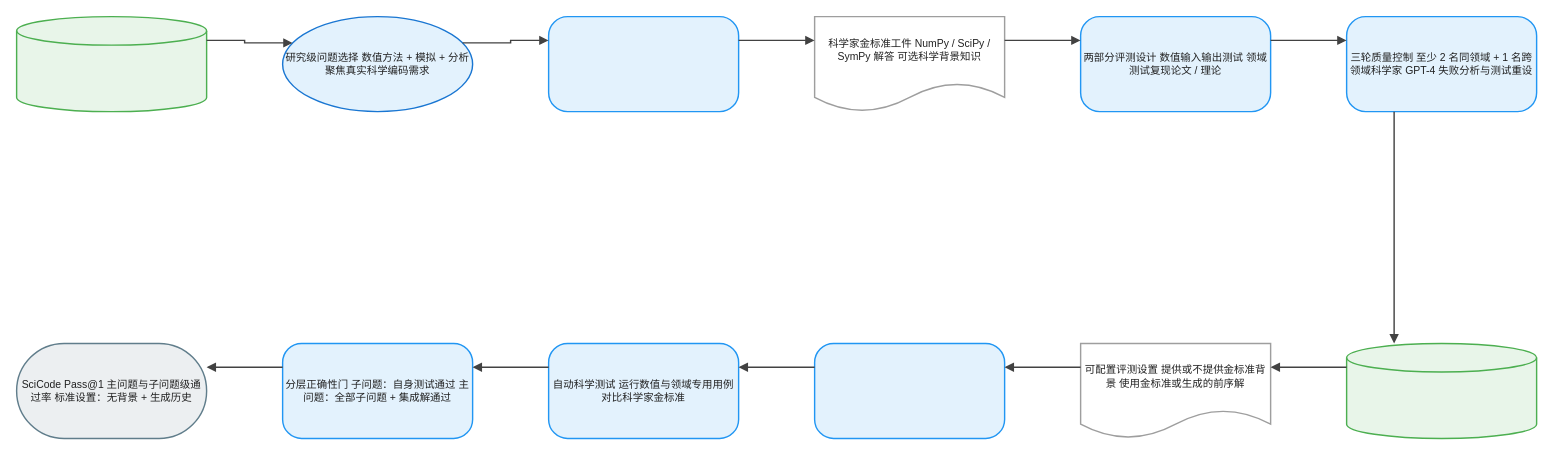
This 1554x456 diagram has some shape labels left out. The shapes that lost their labels are listed below. From the top down, each one's centre as x and y in pixels, then its label:
pixel 111 63: 科学家研究工作流 16 个自然科学子领域 论文使用过的内部脚本
pixel 643 63: 分层问题设计 主目标 -> 有序子问题 文档字符串定义输入输出
pixel 909 390: 零样本顺序生成 各领域使用统一通用提示 携带前序子问题代码
pixel 1441 390: SciCode 发布 80 个主问题 / 338 个子问题 开发 15/50｜测试 65/288
